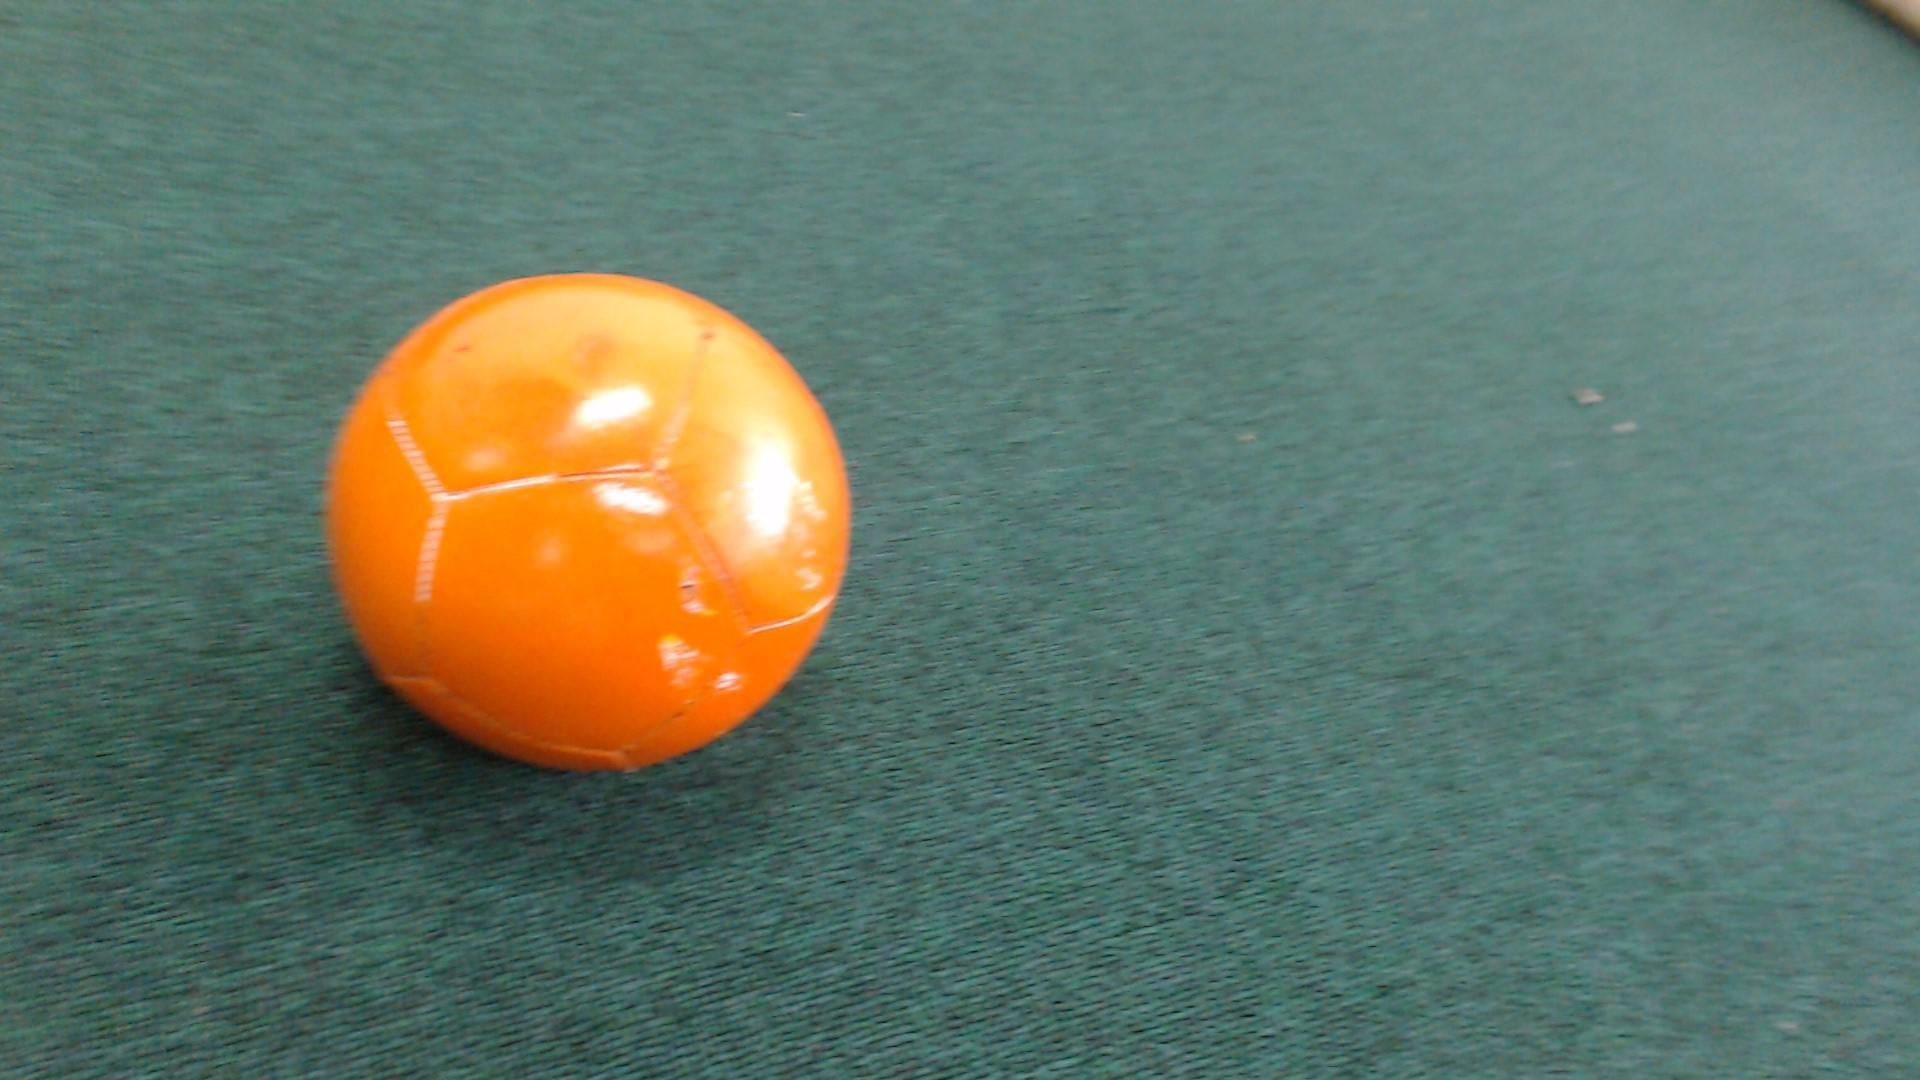bola: (287, 195, 916, 848)
